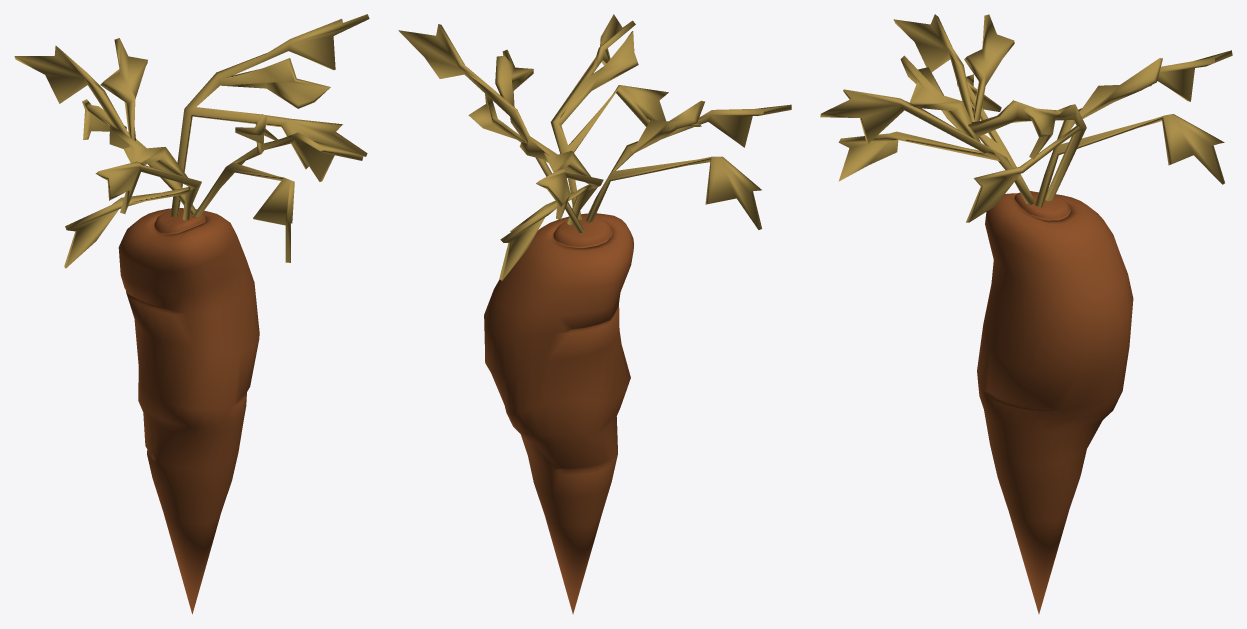
The model's file is CenouraPodre.fbx.
3 renders of one model, left to right at view 1: azimuth 30°, elevation 25°; view 2: azimuth 150°, elevation 25°; view 3: azimuth 270°, elevation 25°, orthographic. The views are drawn at different scales.
Visible parts, largest first — view 1: CenouraPodre; view 2: CenouraPodre; view 3: CenouraPodre.
Part boxes in pixels (x1,y1,x2,y2): CenouraPodre: [14, 14, 369, 614]; CenouraPodre: [398, 14, 791, 614]; CenouraPodre: [820, 14, 1232, 613].
Size of the model in its own units: 10.37 by 16.61 by 10.72.
